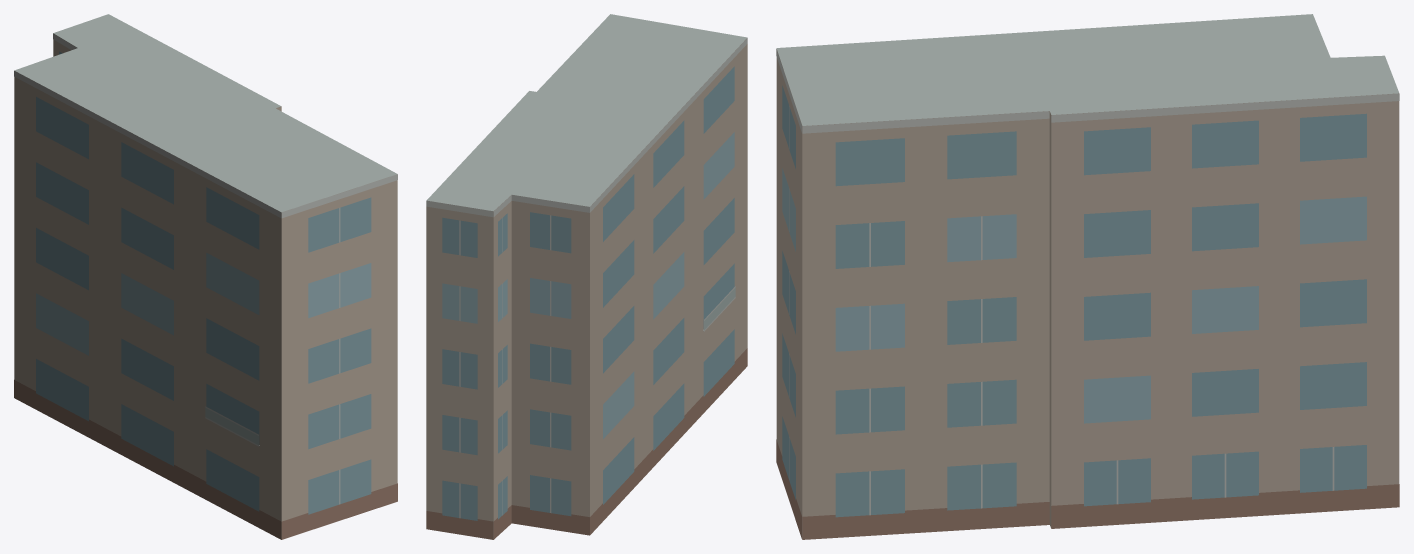
File: survey-upis-32708396.glb
The picture shows the model from 3 angles, left to right: view 1: azimuth 30°, elevation 25°; view 2: azimuth 150°, elevation 25°; view 3: azimuth 270°, elevation 25°; orthographic projection. The views are drawn at different scales.
Parts seen in each view (by area): view 1: survey-upis-32708396.tmp; view 2: survey-upis-32708396.tmp; view 3: survey-upis-32708396.tmp.
Part boxes in pixels (box(x1,y1,x2,y2)): survey-upis-32708396.tmp: box(14, 14, 397, 539); survey-upis-32708396.tmp: box(426, 14, 747, 539); survey-upis-32708396.tmp: box(776, 14, 1399, 539).
Bounding box in the file's own units: 7.67 × 13.2 × 18.02.
